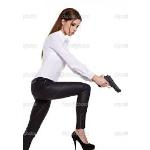Pistol: (95, 73, 121, 93)
